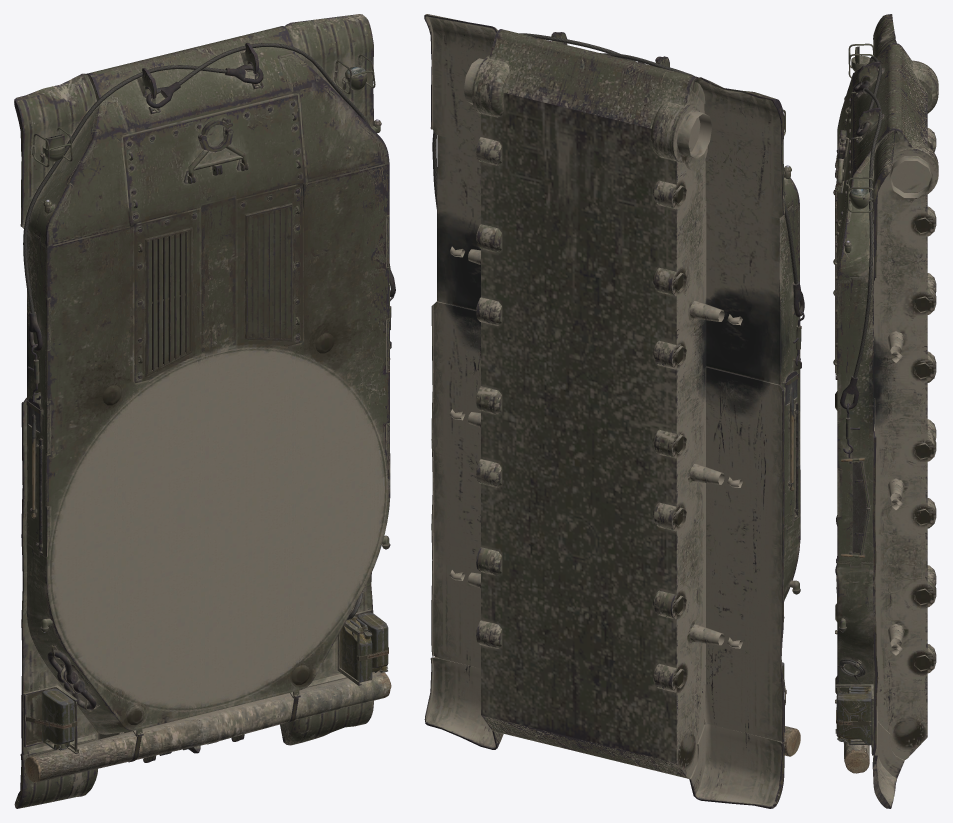
Rendered from Hull.glb.
3 renders of one model, left to right at view 1: azimuth 30°, elevation 25°; view 2: azimuth 150°, elevation 25°; view 3: azimuth 270°, elevation 25°, orthographic. The views are drawn at different scales.
Visible parts, largest first — view 1: set_0_group_0; view 2: set_0_group_0; view 3: set_0_group_0.
Part boxes in pixels (<box>): set_0_group_0: <box>14,14,395,808</box>; set_0_group_0: <box>424,14,804,808</box>; set_0_group_0: <box>833,14,938,808</box>.
Bounding box in the file's own units: 3.51 × 6.68 × 0.9753.
1 material, 1 textured.
